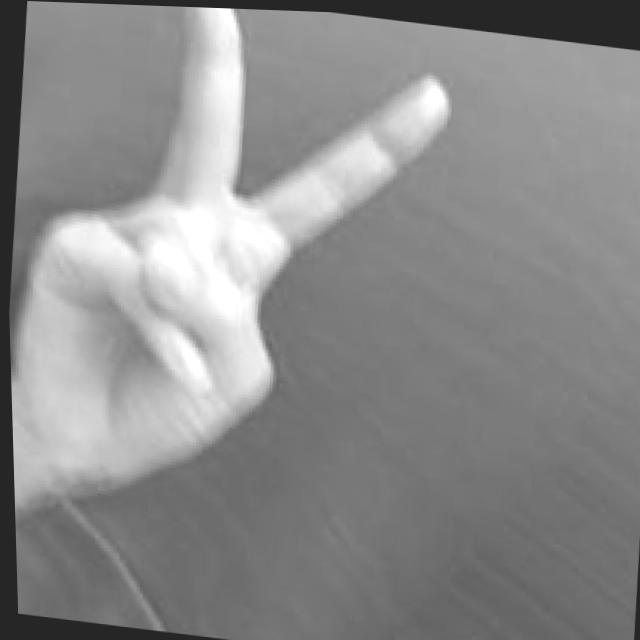V: (0, 0, 470, 532)
